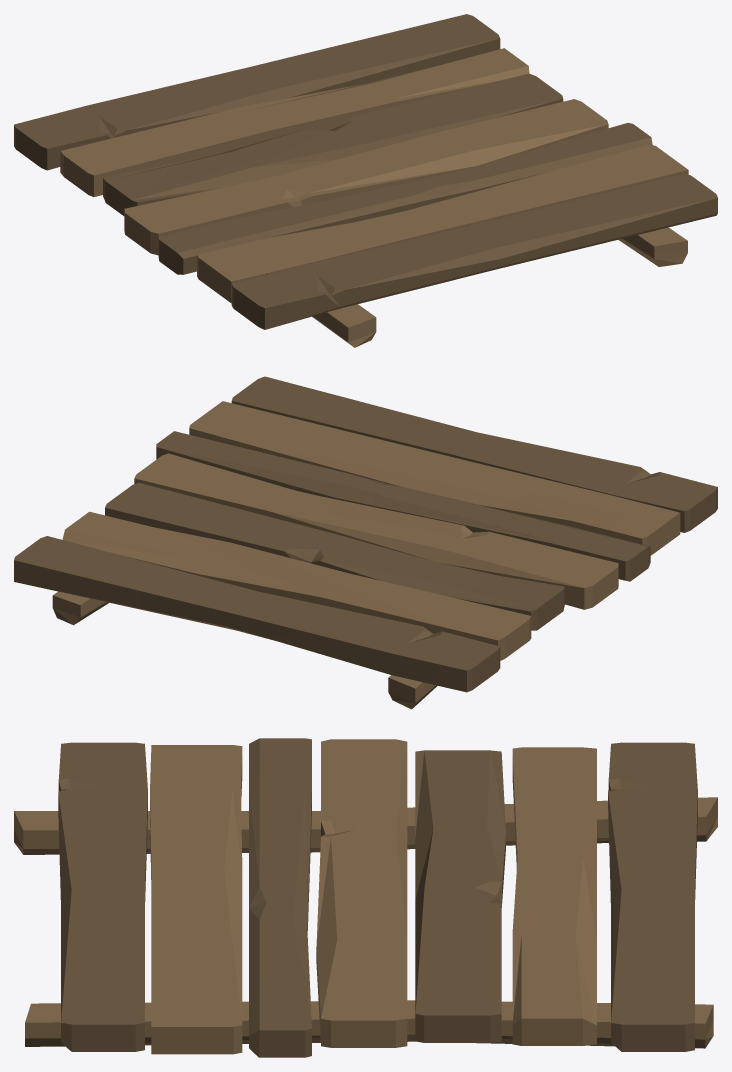
The model's file is Piso_Madera.glb.
3 renders of one model, top to bottom at view 1: azimuth 30°, elevation 25°; view 2: azimuth 150°, elevation 25°; view 3: azimuth 270°, elevation 25°, orthographic. The views are drawn at different scales.
Parts seen in each view (by area): view 1: SM_Prop_Dock_03_1; view 2: SM_Prop_Dock_03_1; view 3: SM_Prop_Dock_03_1.
Boxes of the visible parts, x1=… form: SM_Prop_Dock_03_1: x1=14, y1=14, x2=717, y2=347; SM_Prop_Dock_03_1: x1=14, y1=376, x2=717, y2=709; SM_Prop_Dock_03_1: x1=14, y1=738, x2=717, y2=1057.
Size of the model in its own units: 3.18 by 0.2774 by 3.23.
Materials: 1 (1 with a texture image).
